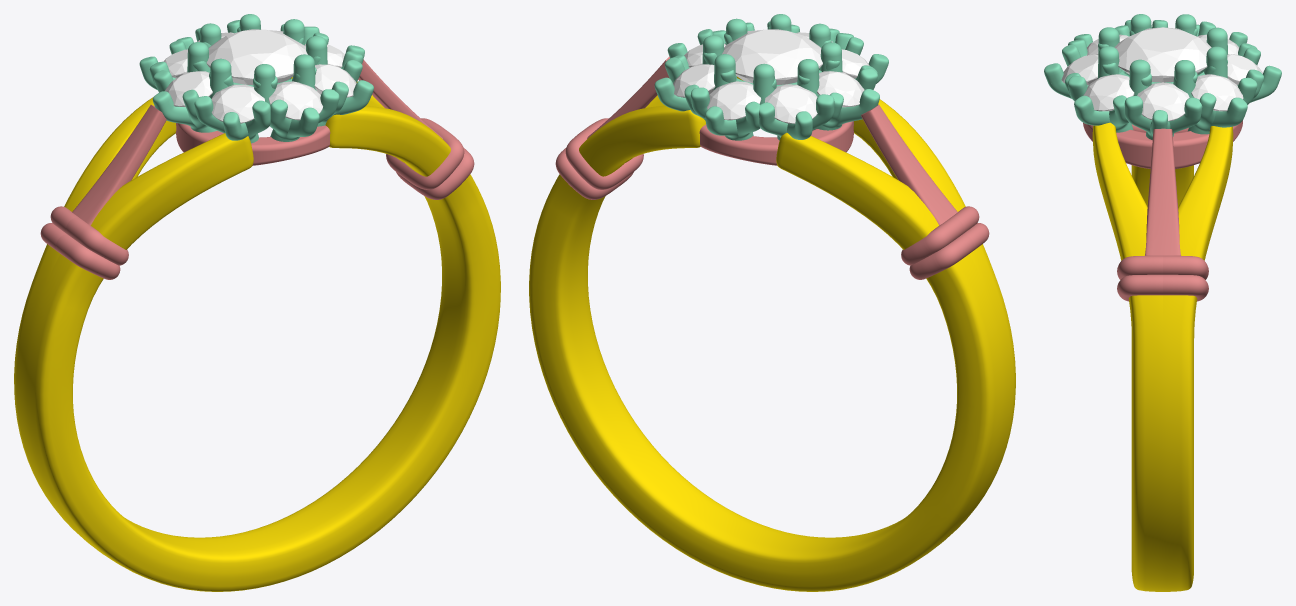
3 views of the same model, side by side, from view 1: azimuth 30°, elevation 25°; view 2: azimuth 150°, elevation 25°; view 3: azimuth 270°, elevation 25° (orthographic).
Visible parts, largest first — view 1: clust3.3dm; view 2: clust3.3dm; view 3: clust3.3dm.
Boxes of the visible parts, x1=… form: clust3.3dm: x1=14, y1=14, x2=500, y2=591; clust3.3dm: x1=529, y1=14, x2=1015, y2=591; clust3.3dm: x1=1044, y1=14, x2=1281, y2=591.
Size of the model in its own units: 2.57 by 2.84 by 1.16.
